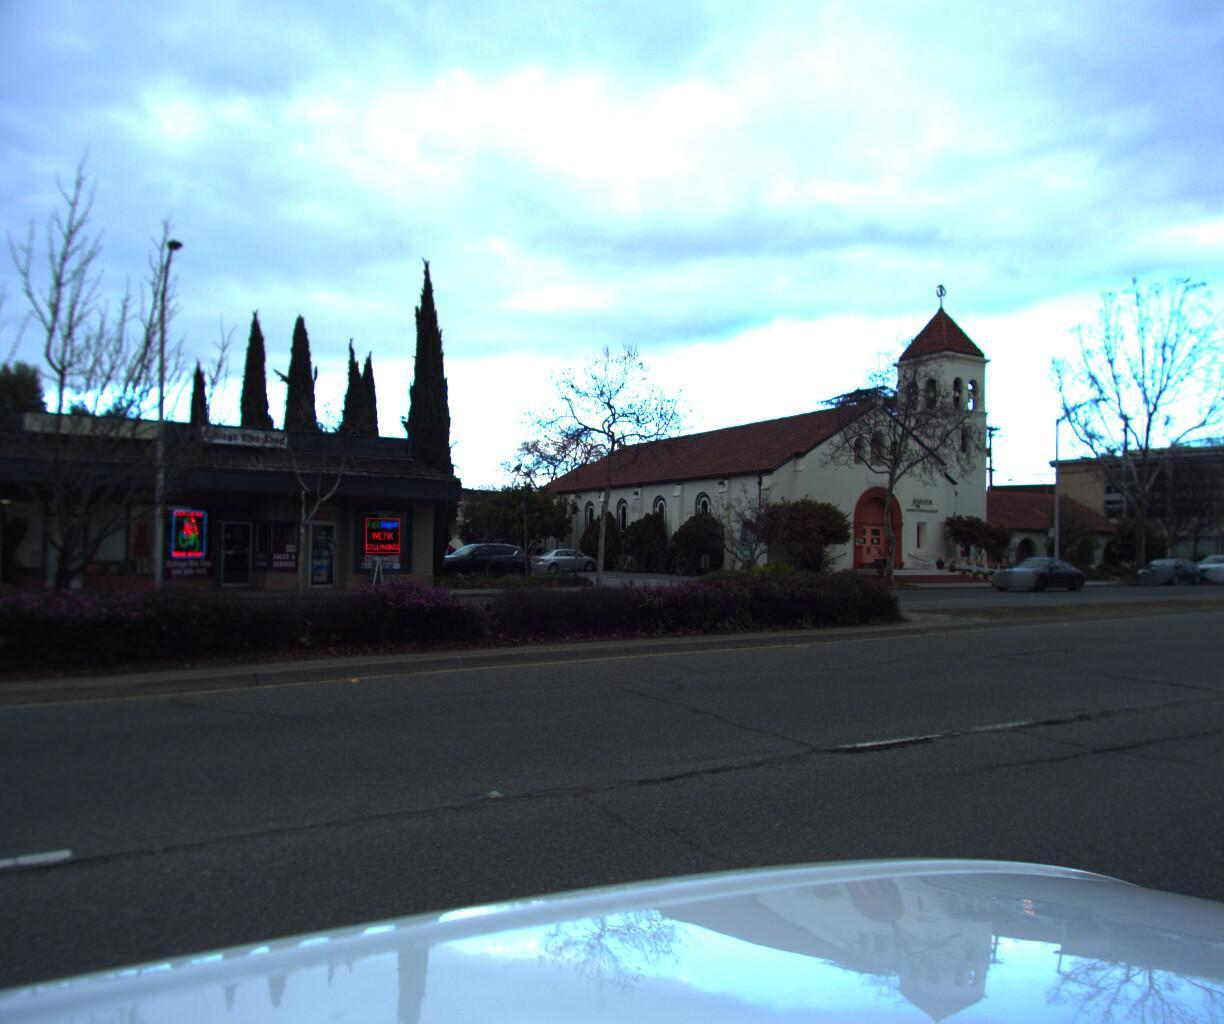car: (991, 556, 1107, 605), (421, 534, 540, 576), (1122, 554, 1202, 586), (1180, 548, 1224, 581)
